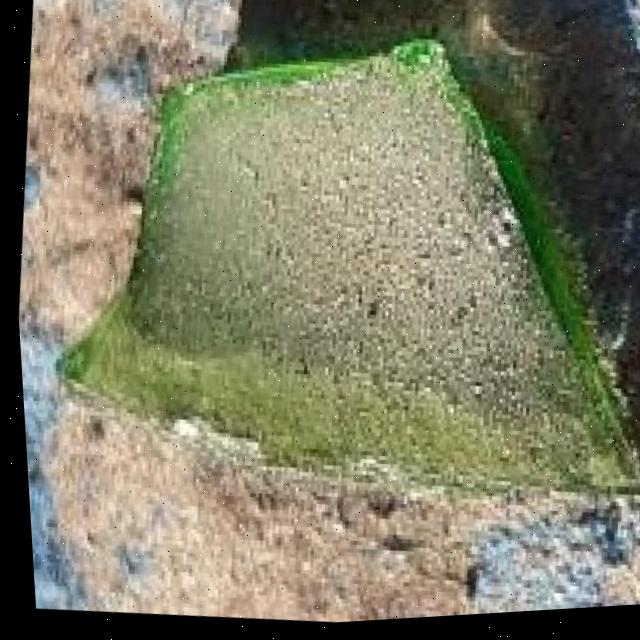Dry: (47, 34, 640, 532)
